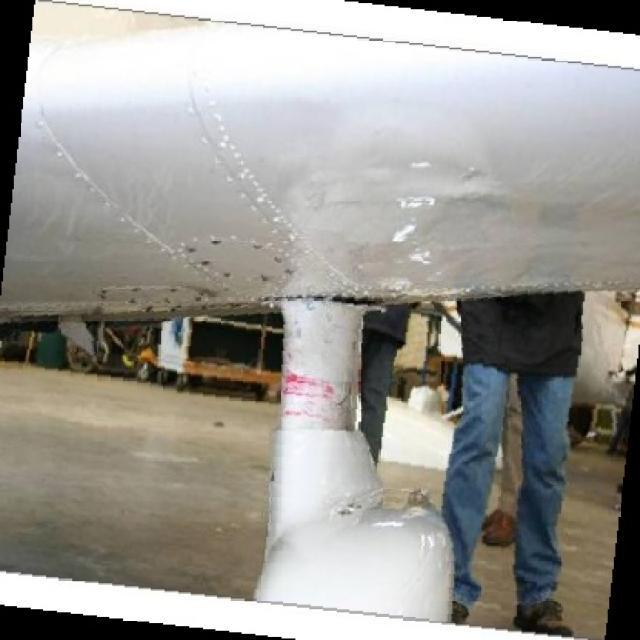dent: (390, 192, 430, 217)
